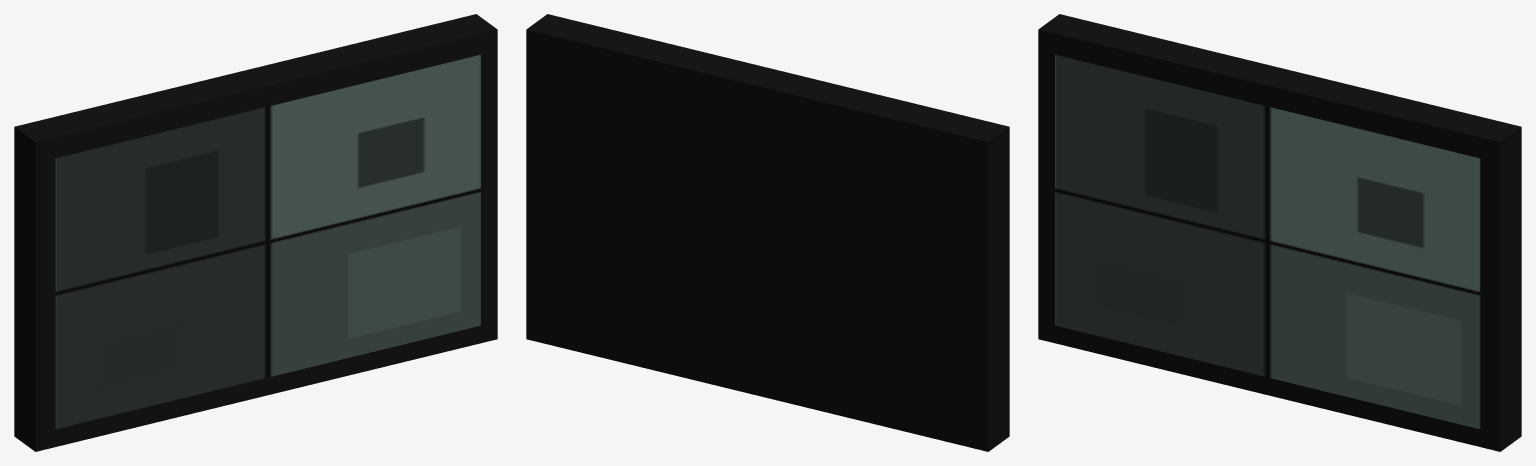
The model's file is monitor_cameras.glb.
3 views of the same model, side by side, from view 1: azimuth 30°, elevation 25°; view 2: azimuth 150°, elevation 25°; view 3: azimuth 330°, elevation 25° (orthographic).
Visible parts, largest first — view 1: Monitor_Cameras_Tela, Monitor_Cameras; view 2: Monitor_Cameras; view 3: Monitor_Cameras_Tela, Monitor_Cameras.
Part boxes in pixels (x1,y1,x2,y2): Monitor_Cameras_Tela: (55,54,480,428); Monitor_Cameras: (14,14,497,451); Monitor_Cameras: (526,14,1009,451); Monitor_Cameras_Tela: (1055,54,1480,428); Monitor_Cameras: (1038,14,1521,451).
Bounding box in the file's own units: 0.5 × 0.32 × 0.043.
Materials: 2 (1 with a texture image).
